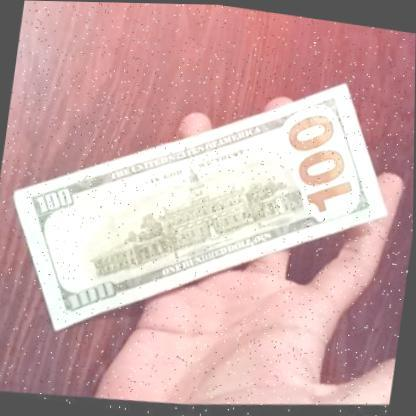dollar_back: (0, 32, 416, 386)
